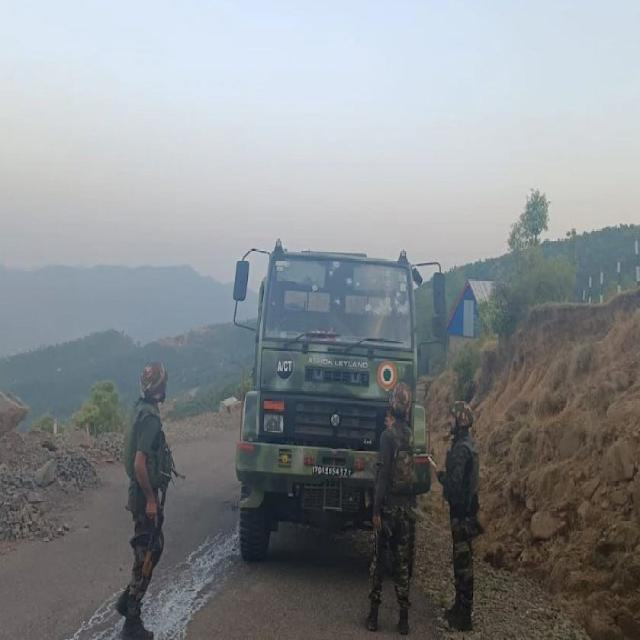military-plate: (310, 466, 355, 477)
